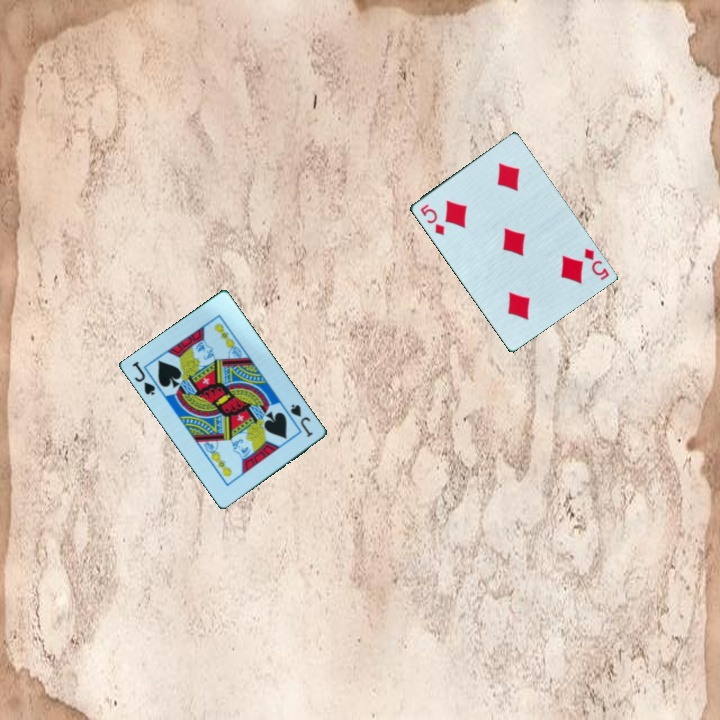5d: (580, 245, 612, 283), (416, 201, 447, 238)
Js: (129, 358, 159, 399), (287, 400, 316, 440)
